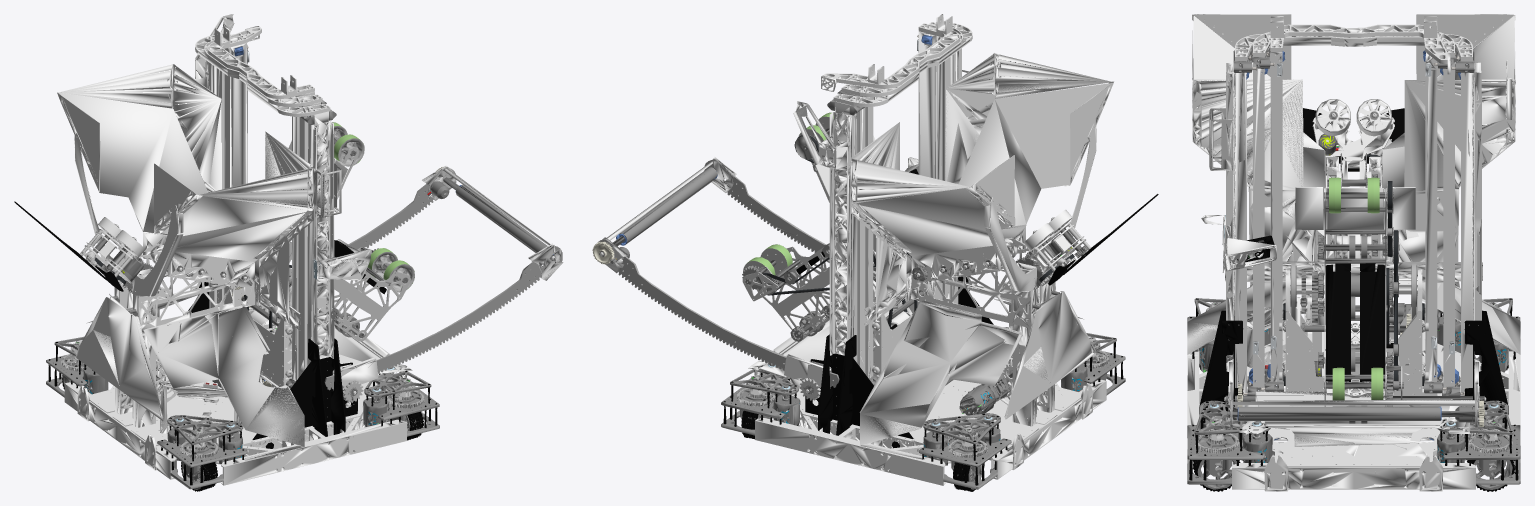
File: singularity-1706.glb
The picture shows the model from 3 angles, left to right: view 1: azimuth 30°, elevation 25°; view 2: azimuth 150°, elevation 25°; view 3: azimuth 270°, elevation 25°; orthographic projection. The views are drawn at different scales.
Visible parts, largest first — view 1: frame, intake, elevator-stage-2, effector, elevator-stage, climber, carriage; view 2: frame, intake, elevator-stage-2, effector, elevator-stage, climber, carriage; view 3: frame, effector, elevator-stage-2, elevator-stage, carriage, intake, climber.
Boxes of the visible parts, x1,y1,x2,y2 form: frame: (46,14,439,491); intake: (324,166,563,402); elevator-stage-2: (207,26,314,388); effector: (255,122,414,341); elevator-stage: (204,34,326,386); climber: (14,201,168,300); carriage: (223,276,293,386); frame: (721,20,1125,491); intake: (592,157,839,400); elevator-stage-2: (823,14,959,385); effector: (742,112,911,341); elevator-stage: (837,22,963,373); climber: (1000,194,1158,295); carriage: (872,252,942,378); frame: (1187,14,1520,491); effector: (1295,177,1415,423); elevator-stage-2: (1265,16,1447,395); elevator-stage: (1247,30,1460,395); carriage: (1279,262,1428,395); intake: (1222,360,1486,429); climber: (1303,99,1404,187).
Bounding box in the file's own units: 1.27 × 0.9859 × 0.712.
